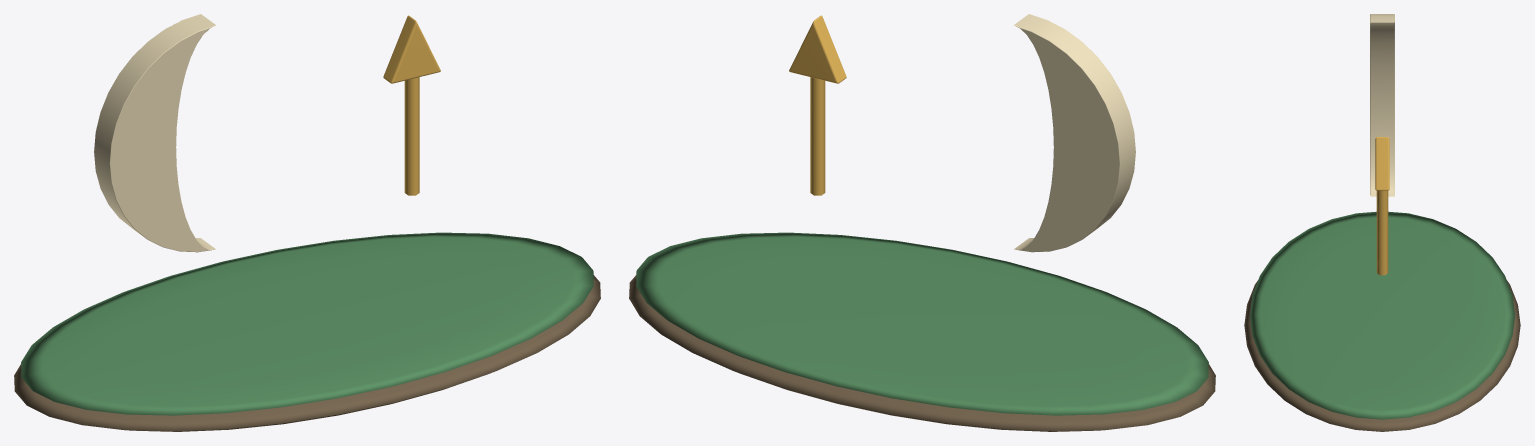
File: evening-moon.glb
The picture shows the model from 3 angles, left to right: view 1: azimuth 30°, elevation 25°; view 2: azimuth 150°, elevation 25°; view 3: azimuth 270°, elevation 25°; orthographic projection. The views are drawn at different scales.
Parts seen in each view (by area): view 1: evening-moon_surface_01, evening-moon_surface_02, evening-moon_surface_00, evening-moon_surface_03; view 2: evening-moon_surface_01, evening-moon_surface_02, evening-moon_surface_00, evening-moon_surface_03; view 3: evening-moon_surface_01, evening-moon_surface_00, evening-moon_surface_02, evening-moon_surface_03.
Part boxes in pixels (x1=…): evening-moon_surface_01: x1=21, y1=232, x2=593, y2=415; evening-moon_surface_02: x1=94, y1=14, x2=215, y2=252; evening-moon_surface_00: x1=14, y1=275, x2=600, y2=431; evening-moon_surface_03: x1=383, y1=15, x2=440, y2=195; evening-moon_surface_01: x1=636, y1=232, x2=1208, y2=415; evening-moon_surface_02: x1=1014, y1=14, x2=1135, y2=252; evening-moon_surface_00: x1=629, y1=275, x2=1215, y2=431; evening-moon_surface_03: x1=789, y1=15, x2=846, y2=195; evening-moon_surface_01: x1=1250, y1=211, x2=1514, y2=419; evening-moon_surface_00: x1=1244, y1=280, x2=1520, y2=431; evening-moon_surface_02: x1=1370, y1=14, x2=1394, y2=196; evening-moon_surface_03: x1=1375, y1=137, x2=1389, y2=275.
Size of the model in its own units: 4.56 by 2.78 by 2.5.
